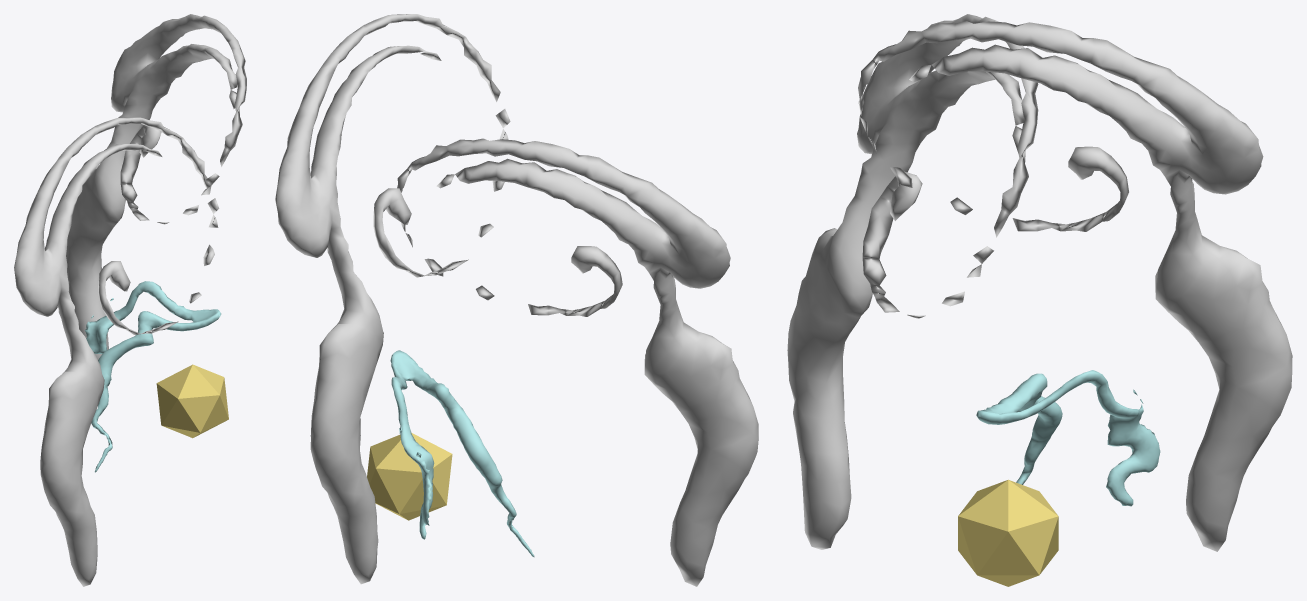
File: asset.glb
3 renders of one model, left to right at view 1: azimuth 30°, elevation 25°; view 2: azimuth 150°, elevation 25°; view 3: azimuth 270°, elevation 25°, orthographic. The views are drawn at different scales.
Parts seen in each view (by area): view 1: Sphere.002, Sphere.001, Sphere, Icosphere; view 2: Sphere.002, Sphere.001, Sphere, Icosphere; view 3: Sphere.001, Sphere.002, Icosphere, Sphere.
Part boxes in pixels (x1=…): Sphere.002: x1=14, y1=117, x2=219, y2=586; Sphere.001: x1=66, y1=14, x2=246, y2=359; Sphere: x1=85, y1=281, x2=221, y2=472; Icosphere: x1=156, y1=364, x2=228, y2=438; Sphere.002: x1=397, y1=138, x2=758, y2=586; Sphere.001: x1=275, y1=14, x2=510, y2=584; Sphere: x1=390, y1=350, x2=534, y2=557; Icosphere: x1=367, y1=433, x2=452, y2=520; Sphere.001: x1=858, y1=21, x2=1292, y2=551; Sphere.002: x1=787, y1=14, x2=1038, y2=549; Icosphere: x1=958, y1=479, x2=1058, y2=586; Sphere: x1=976, y1=370, x2=1160, y2=506.
Bounding box in the file's own units: 159 × 265 × 181.
